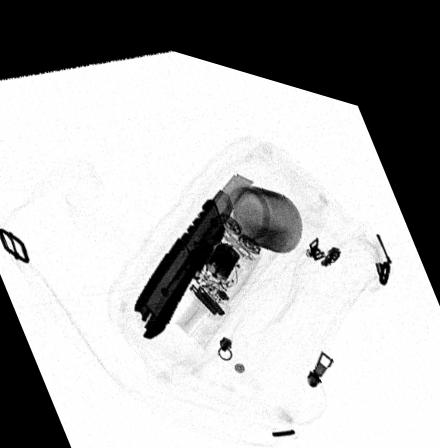Knife: (132, 158, 255, 331)
